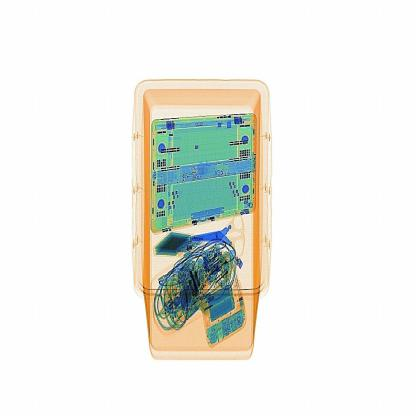gun: (192, 206, 258, 263)
